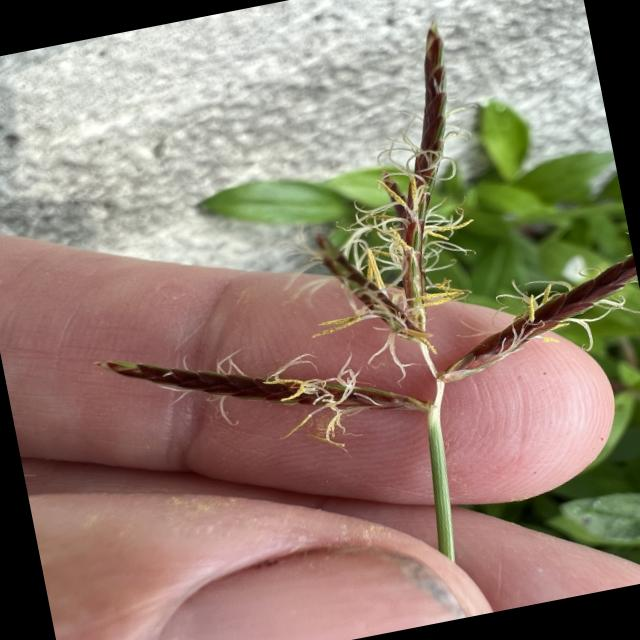cyperus: (34, 0, 640, 507)
